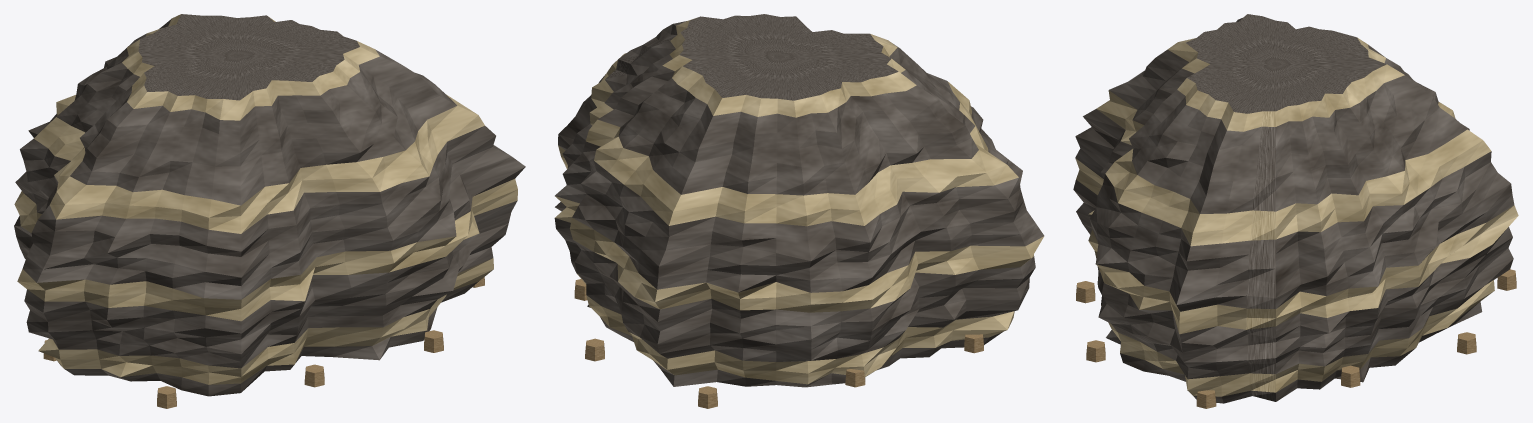
The model's file is ROCK_03_DARK_BOULDER.glb.
3 renders of one model, left to right at view 1: azimuth 30°, elevation 25°; view 2: azimuth 150°, elevation 25°; view 3: azimuth 270°, elevation 25°, orthographic. The views are drawn at different scales.
Visible parts, largest first — view 1: ROCK_03_DARK_BOULDER__ROCK_BODY, ROCK_03_DARK_BOULDER__SCATTERED_GRIT_STONES; view 2: ROCK_03_DARK_BOULDER__ROCK_BODY, ROCK_03_DARK_BOULDER__SCATTERED_GRIT_STONES; view 3: ROCK_03_DARK_BOULDER__ROCK_BODY, ROCK_03_DARK_BOULDER__SCATTERED_GRIT_STONES.
Boxes of the visible parts, x1,y1,x2,y2 form: ROCK_03_DARK_BOULDER__ROCK_BODY: (14,14,525,396); ROCK_03_DARK_BOULDER__SCATTERED_GRIT_STONES: (43,277,484,408); ROCK_03_DARK_BOULDER__ROCK_BODY: (554,14,1044,387); ROCK_03_DARK_BOULDER__SCATTERED_GRIT_STONES: (574,279,983,408); ROCK_03_DARK_BOULDER__ROCK_BODY: (1073,14,1518,403); ROCK_03_DARK_BOULDER__SCATTERED_GRIT_STONES: (1076,269,1516,408).
Size of the model in its own units: 1.23 by 0.63 by 1.03.
Materials: 1 (1 with a texture image).
